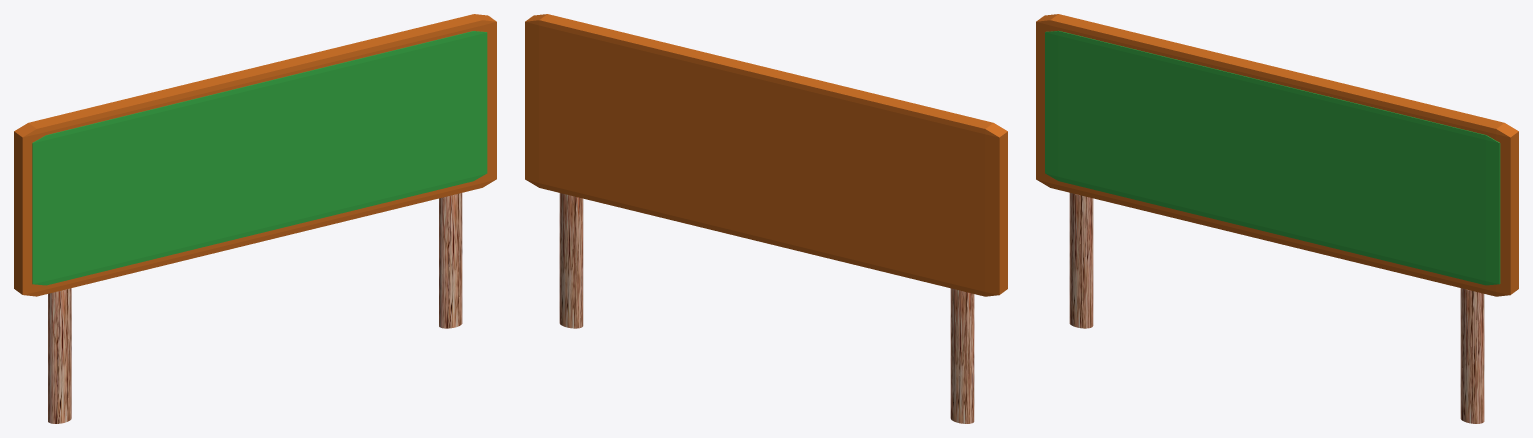
File: Panel.fbx
3 renders of one model, left to right at view 1: azimuth 30°, elevation 25°; view 2: azimuth 150°, elevation 25°; view 3: azimuth 330°, elevation 25°, orthographic.
Parts seen in each view (by area): view 1: Front_Green, Back_Brown, L_Foot, R_Foot; view 2: Back_Brown, R_Foot, L_Foot; view 3: Front_Green, Back_Brown, L_Foot, R_Foot.
Boxes of the visible parts, left/top/right/bottom form: Front_Green: left=32, top=31, right=487, bottom=285; Back_Brown: left=14, top=14, right=496, bottom=296; L_Foot: left=48, top=288, right=71, bottom=423; R_Foot: left=439, top=193, right=462, bottom=328; Back_Brown: left=525, top=14, right=1007, bottom=296; R_Foot: left=559, top=193, right=583, bottom=328; L_Foot: left=950, top=288, right=974, bottom=423; Front_Green: left=1045, top=30, right=1500, bottom=285; Back_Brown: left=1036, top=14, right=1518, bottom=296; L_Foot: left=1069, top=193, right=1093, bottom=328; R_Foot: left=1460, top=288, right=1484, bottom=423.
Bounding box in the file's own units: 1456 × 881 × 50.61.
3 materials, 1 textured.
